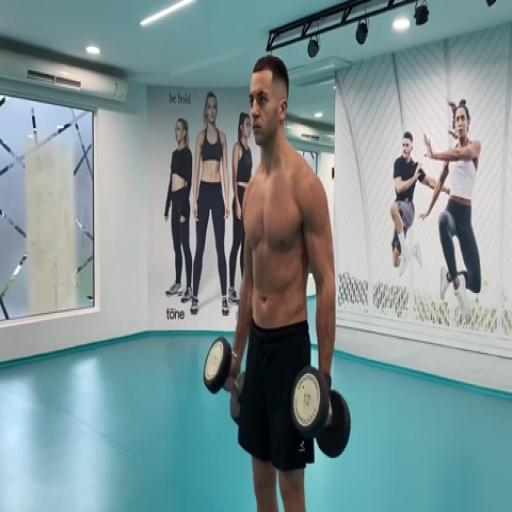exercise: (223, 52, 339, 510), (418, 97, 485, 324)
